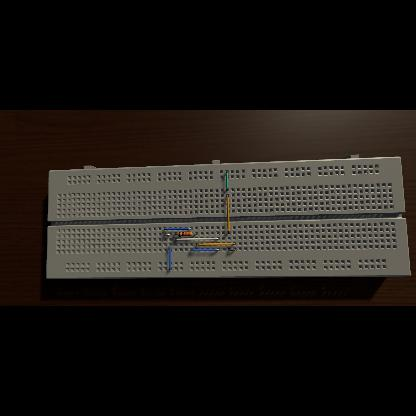breadboard: (46, 155, 410, 280)
resistor: (178, 232, 192, 236)
wire: (176, 238, 218, 242), (226, 196, 230, 234), (196, 244, 234, 247), (191, 248, 219, 252), (168, 245, 172, 271), (164, 228, 192, 230), (226, 172, 228, 192), (228, 249, 236, 251), (165, 234, 171, 236), (193, 233, 197, 235), (174, 233, 178, 235)
